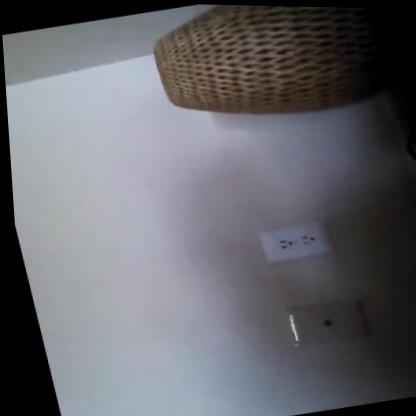OUTLET: (257, 217, 333, 265)
